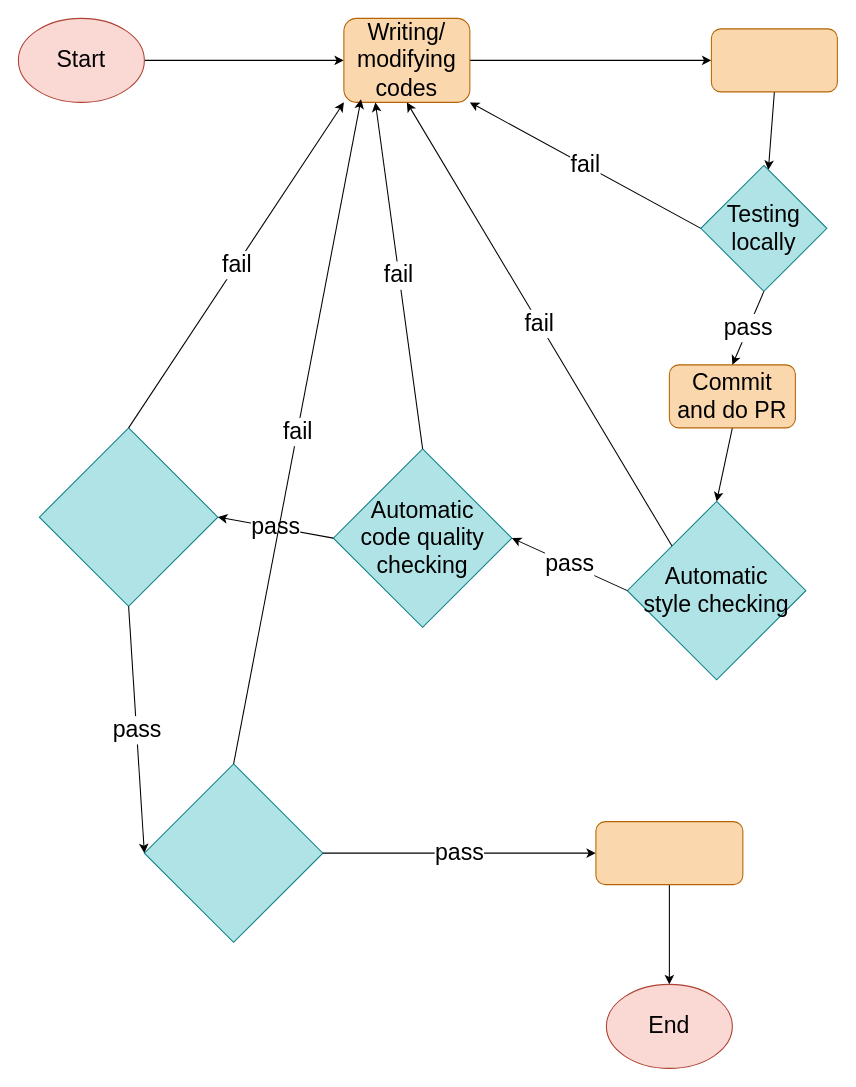
Some shapes in this 856 by 1087 pixel diagram are drawn without their labels. The centre of each missing label's shape, as x and y in pixels:
"Automatic unit test" belongs at point (128, 516).
"Checking code quality by human" belongs at point (233, 852).
"Merge to main branch" belongs at point (669, 853).
"Writing comments" belongs at point (773, 60).
